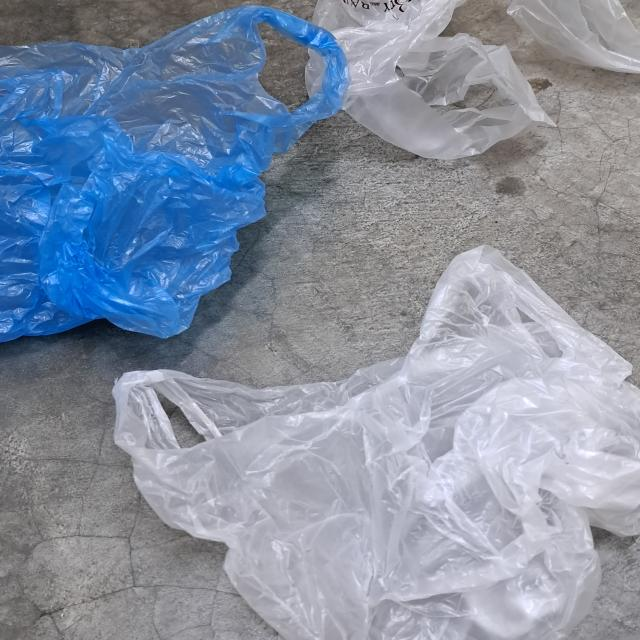plastic bag: (110, 236, 638, 640), (4, 2, 352, 343), (305, 0, 639, 183)
